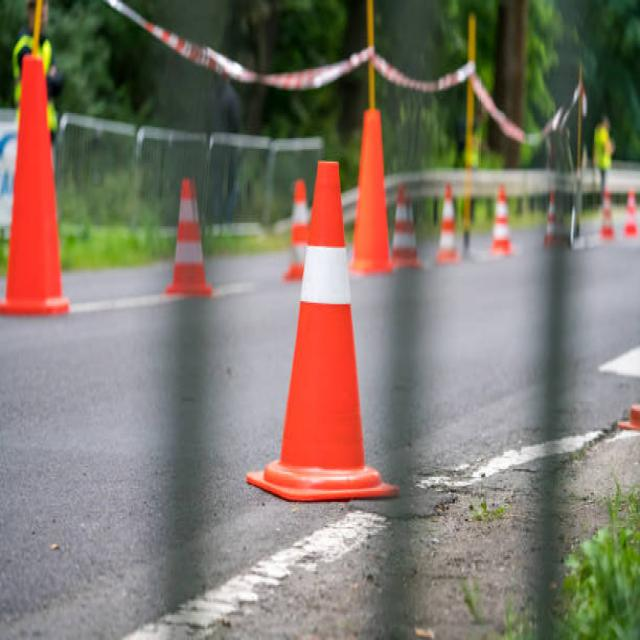Traffic Cone: (243, 123, 402, 518)
